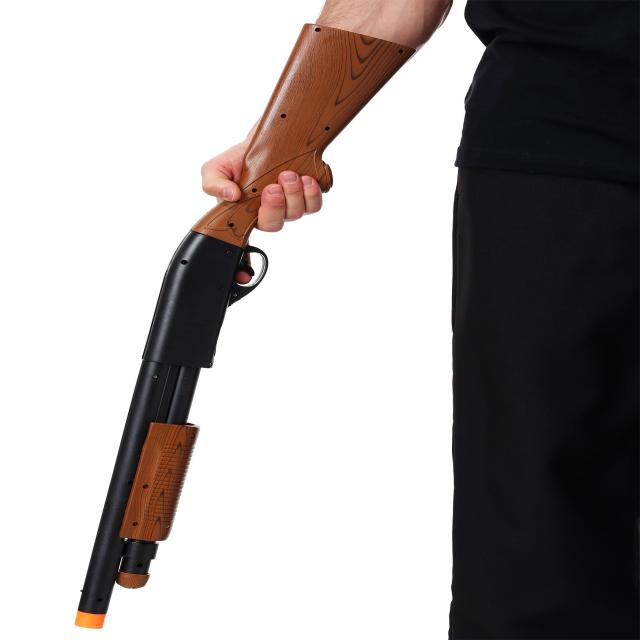ShotGun: (73, 24, 414, 632)
